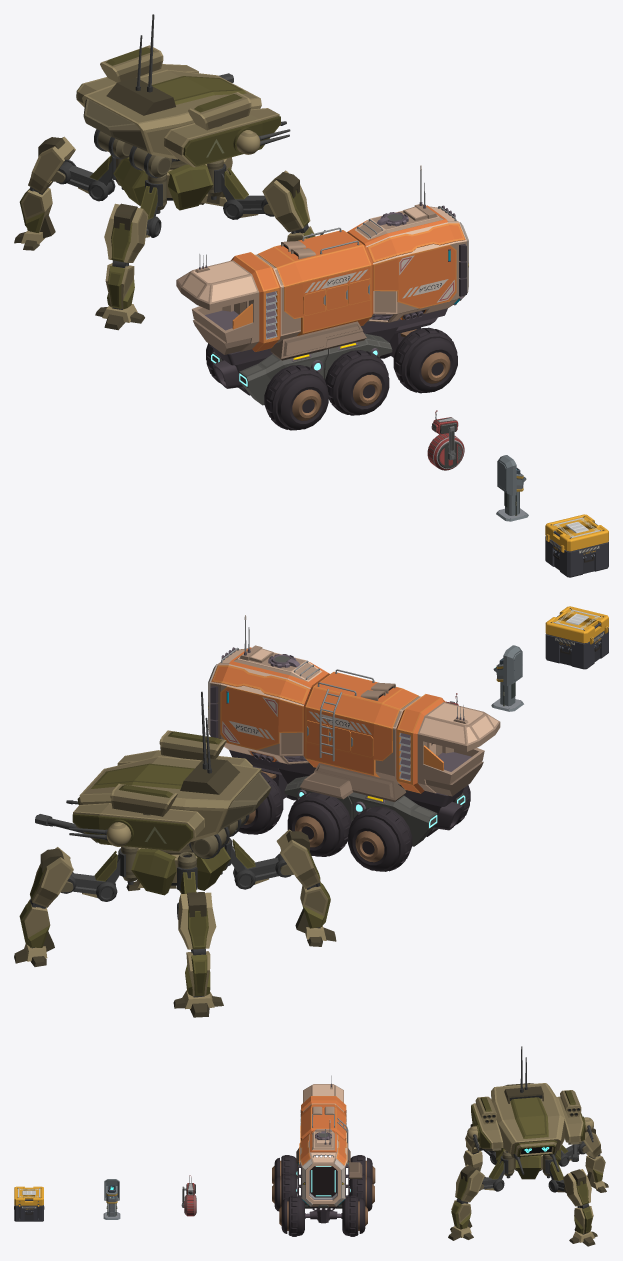
Rendered from SUP_xyzschool_hw_painting.glb.
The picture shows the model from 3 angles, top to bottom: view 1: azimuth 30°, elevation 25°; view 2: azimuth 150°, elevation 25°; view 3: azimuth 270°, elevation 25°; orthographic projection. The views are drawn at different scales.
Parts seen in each view (by area): view 1: SUP_xyzschool_hw_painting; view 2: SUP_xyzschool_hw_painting; view 3: SUP_xyzschool_hw_painting.
Boxes of the visible parts, x1,y1,x2,y2 form: SUP_xyzschool_hw_painting: (14, 14, 608, 577); SUP_xyzschool_hw_painting: (14, 606, 608, 1017); SUP_xyzschool_hw_painting: (14, 1046, 608, 1246).
Size of the model in its own units: 6.45 by 6.11 by 20.32.
